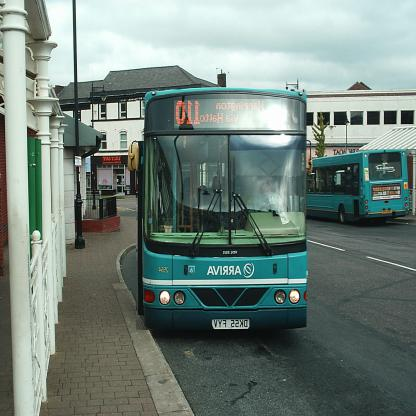bus: (137, 91, 308, 332), (307, 146, 410, 224)
